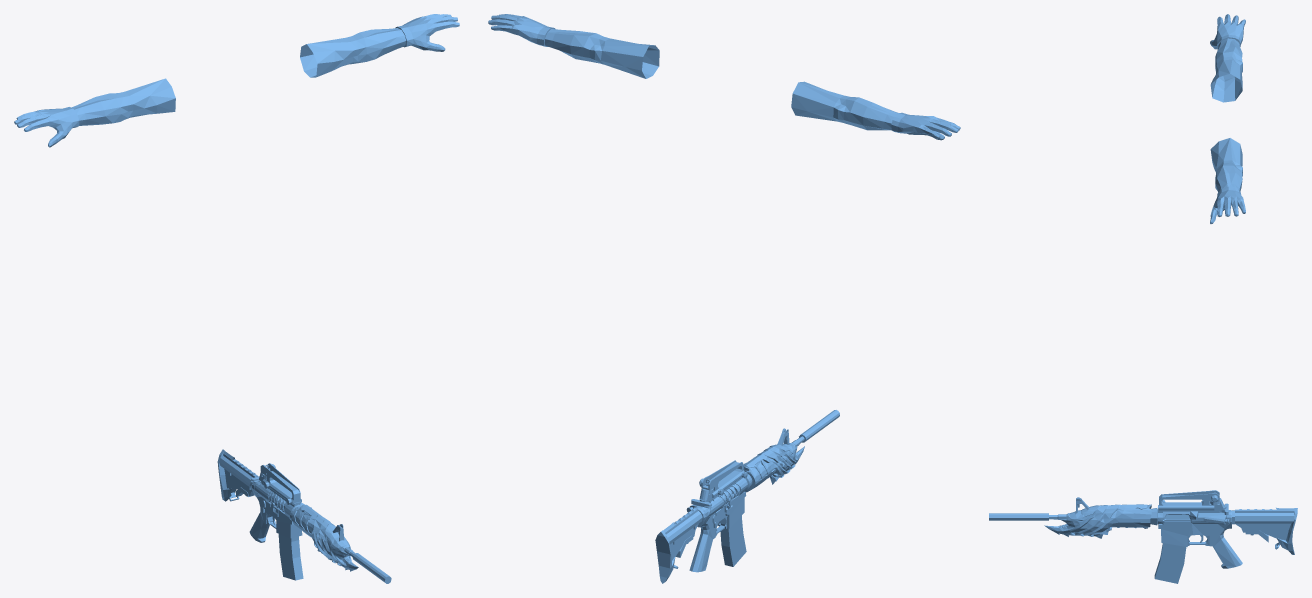
File: PV-M4A1_S_BornBeast_Classic.obj
3 views of the same model, side by side, from view 1: azimuth 30°, elevation 25°; view 2: azimuth 150°, elevation 25°; view 3: azimuth 270°, elevation 25° (orthographic). The views are drawn at different scales.
Parts seen in each view (by area): view 1: PV-M4A1_S_BornBeast_Classic_M4A1S_BornBeast, PV-M4A1_S_BornBeast_Classic_Fview-arm2, PV-M4A1_S_BornBeast_Classic_Fview-hand2, PV-M4A1_S_BornBeast_Classic_M4A1S_BornBeast01; view 2: PV-M4A1_S_BornBeast_Classic_M4A1S_BornBeast, PV-M4A1_S_BornBeast_Classic_Fview-arm2, PV-M4A1_S_BornBeast_Classic_Fview-hand2, PV-M4A1_S_BornBeast_Classic_M4A1S_BornBeast01; view 3: PV-M4A1_S_BornBeast_Classic_M4A1S_BornBeast, PV-M4A1_S_BornBeast_Classic_Fview-arm2, PV-M4A1_S_BornBeast_Classic_Fview-hand2, PV-M4A1_S_BornBeast_Classic_M4A1S_BornBeast01.
Boxes of the visible parts, x1=… form: PV-M4A1_S_BornBeast_Classic_M4A1S_BornBeast: x1=217, y1=449, x2=391, y2=583; PV-M4A1_S_BornBeast_Classic_Fview-arm2: x1=71, y1=28, x2=406, y2=125; PV-M4A1_S_BornBeast_Classic_Fview-hand2: x1=14, y1=14, x2=459, y2=147; PV-M4A1_S_BornBeast_Classic_M4A1S_BornBeast01: x1=278, y1=534, x2=303, y2=580; PV-M4A1_S_BornBeast_Classic_M4A1S_BornBeast: x1=655, y1=410, x2=839, y2=583; PV-M4A1_S_BornBeast_Classic_Fview-arm2: x1=545, y1=29, x2=897, y2=130; PV-M4A1_S_BornBeast_Classic_Fview-hand2: x1=488, y1=14, x2=960, y2=140; PV-M4A1_S_BornBeast_Classic_M4A1S_BornBeast01: x1=720, y1=516, x2=746, y2=566; PV-M4A1_S_BornBeast_Classic_M4A1S_BornBeast: x1=989, y1=490, x2=1297, y2=568; PV-M4A1_S_BornBeast_Classic_Fview-arm2: x1=1210, y1=38, x2=1242, y2=192; PV-M4A1_S_BornBeast_Classic_Fview-hand2: x1=1210, y1=14, x2=1245, y2=223; PV-M4A1_S_BornBeast_Classic_M4A1S_BornBeast01: x1=1154, y1=543, x2=1186, y2=583.
Bounding box in the file's own units: 4.15 × 4.5 × 2.7.
